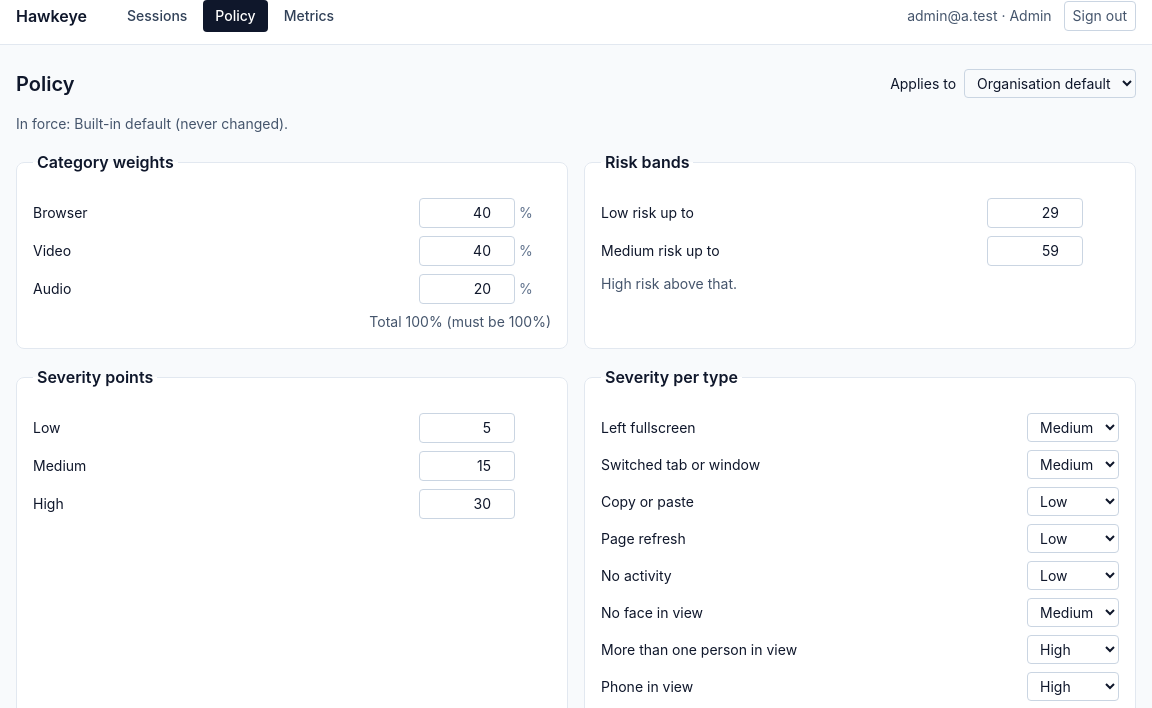
Test: policy settings › previews the score impact on a sample session, then saves a new version
Replace the text in the number field labelled "Browser" with "20" at point(467, 213), box [419,198,515,228]
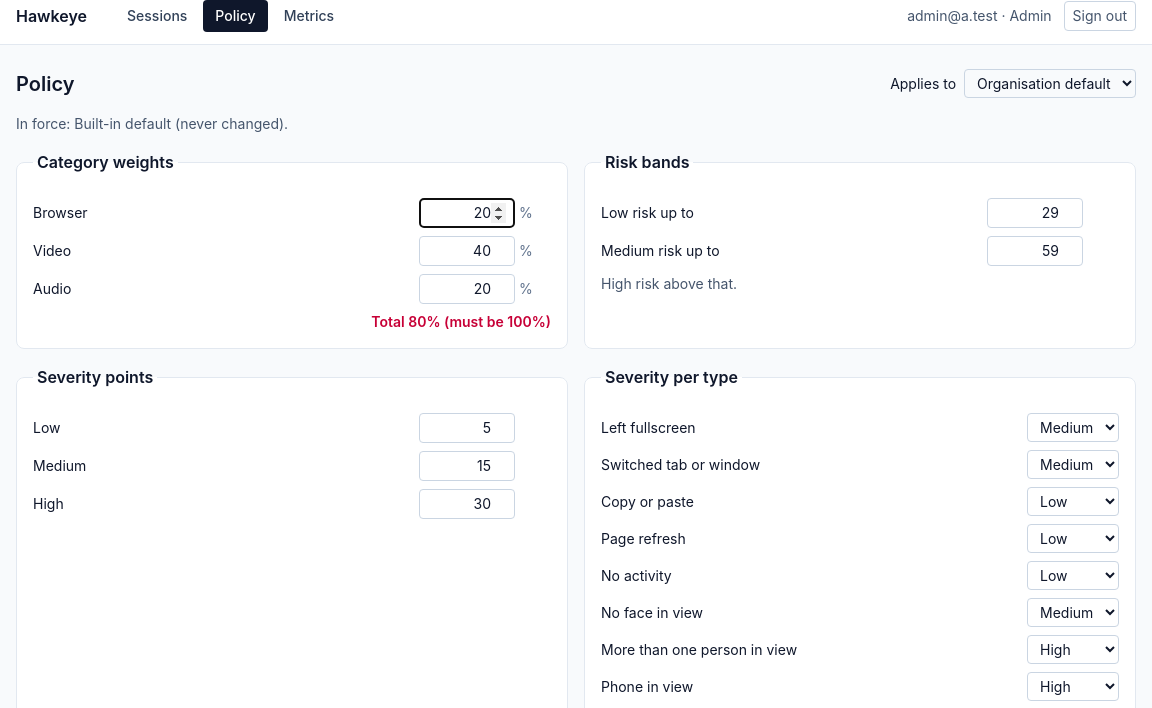
Replace the text in the number field labelled "Video" with "60" at point(467, 251), box [419,236,515,266]
(page scrolled)
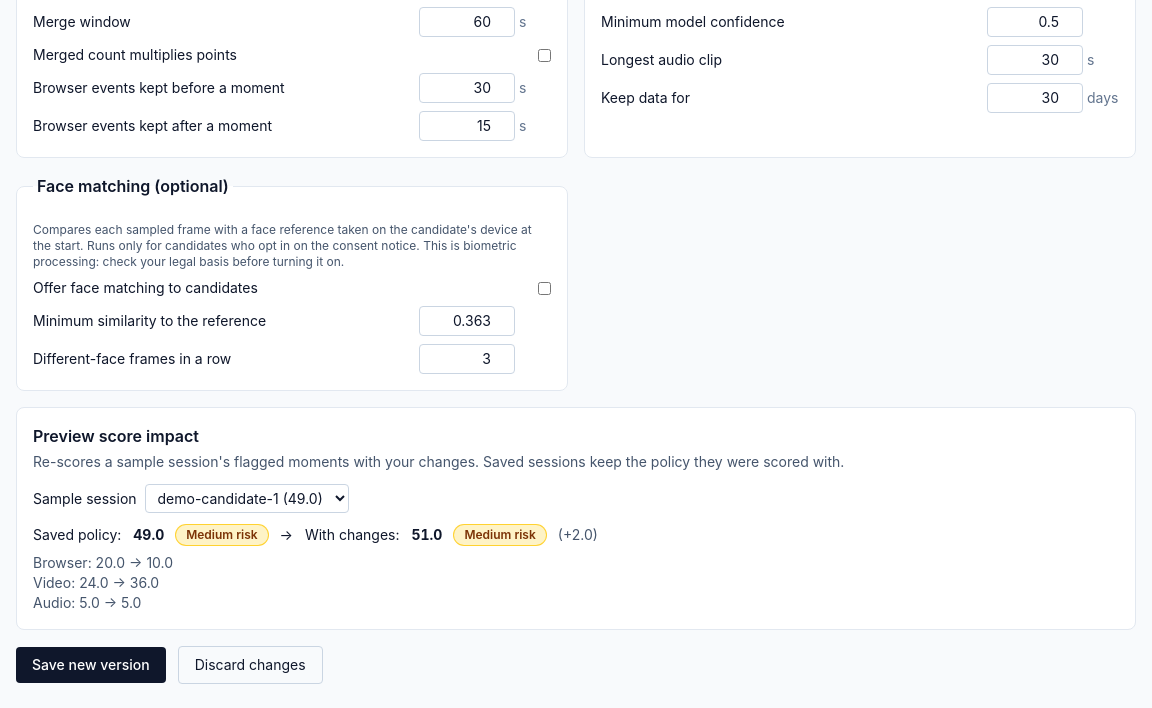
Check: the text with test id "preview-new" reads "51.0", box [412,526,442,543]
Click the button "Save new version" at point(91, 665), box [16,647,166,683]
(page scrolled)
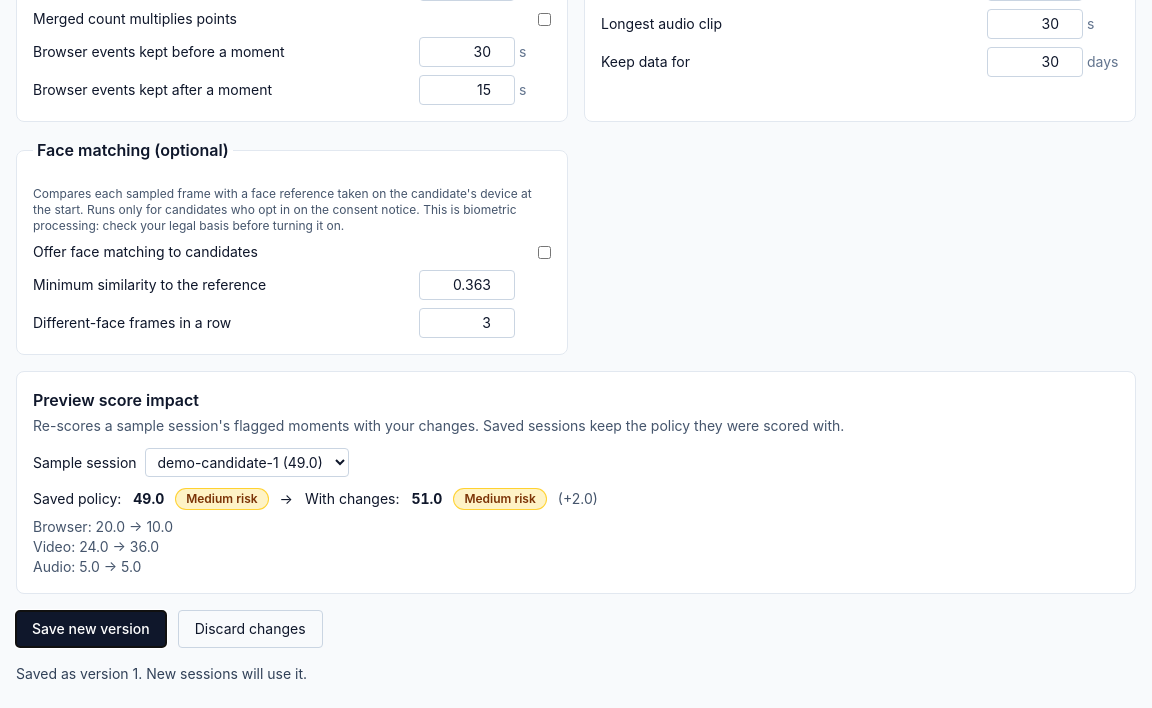
Check: the message shows "Saved as version 1", box [16,665,307,682]
